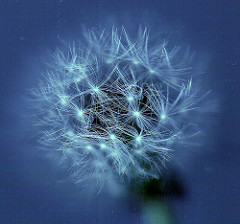dandelion: (27, 20, 219, 191)
